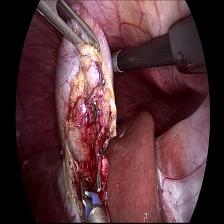Bipolar: (76, 171, 113, 224)
Grasper: (39, 1, 103, 61)
